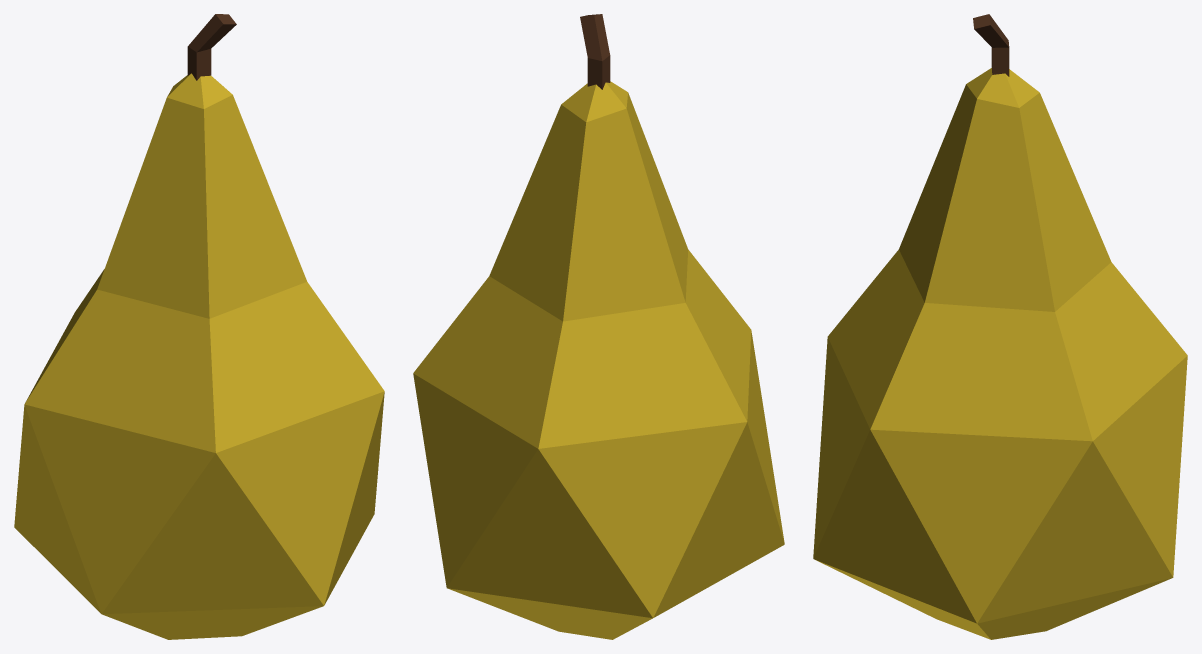
Rendered from pear.fbx.
3 renders of one model, left to right at view 1: azimuth 30°, elevation 25°; view 2: azimuth 150°, elevation 25°; view 3: azimuth 270°, elevation 25°, orthographic. The views are drawn at different scales.
Parts seen in each view (by area): view 1: Icosphere.001; view 2: Icosphere.001; view 3: Icosphere.001.
Boxes of the visible parts, <box> form: Icosphere.001: <box>14,14,384,639</box>; Icosphere.001: <box>413,14,784,639</box>; Icosphere.001: <box>813,14,1187,639</box>.
Bounding box in the file's own units: 100 × 179 × 99.08.
